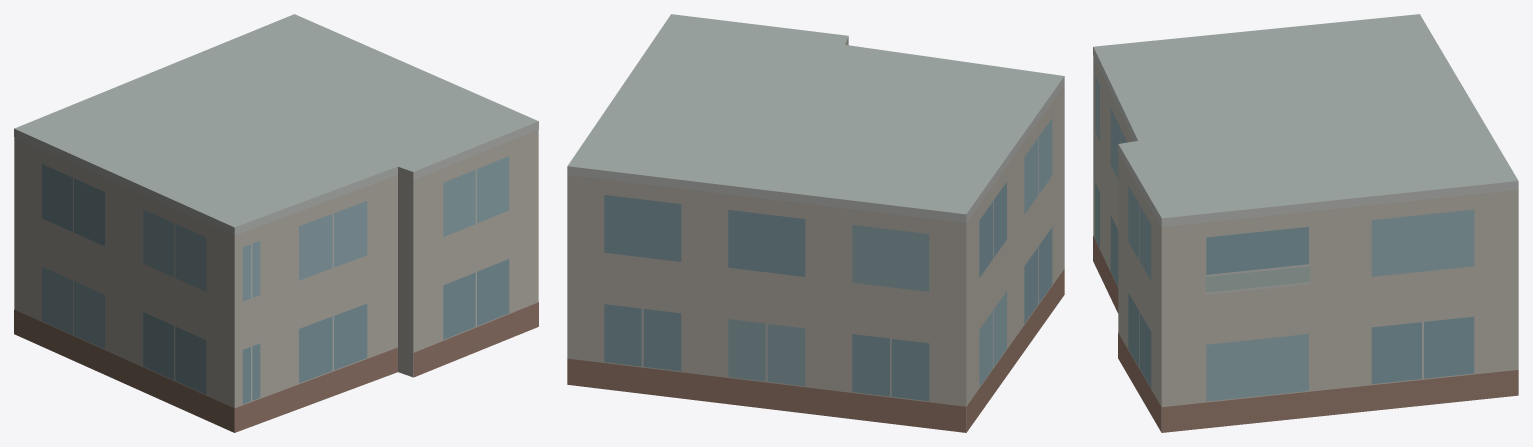
The model's file is survey-upis-33030937.glb.
3 renders of one model, left to right at view 1: azimuth 30°, elevation 25°; view 2: azimuth 150°, elevation 25°; view 3: azimuth 270°, elevation 25°, orthographic. The views are drawn at different scales.
Visible parts, largest first — view 1: survey-upis-33030937.tmp; view 2: survey-upis-33030937.tmp; view 3: survey-upis-33030937.tmp.
Part boxes in pixels (<box>): survey-upis-33030937.tmp: <box>14,14,538,432</box>; survey-upis-33030937.tmp: <box>567,14,1064,432</box>; survey-upis-33030937.tmp: <box>1093,14,1518,432</box>.
Bounding box in the file's own units: 12.47 × 6.1 × 10.98.
